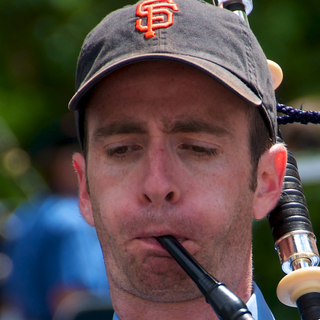eye: (173, 139, 223, 162), (101, 140, 146, 163)
